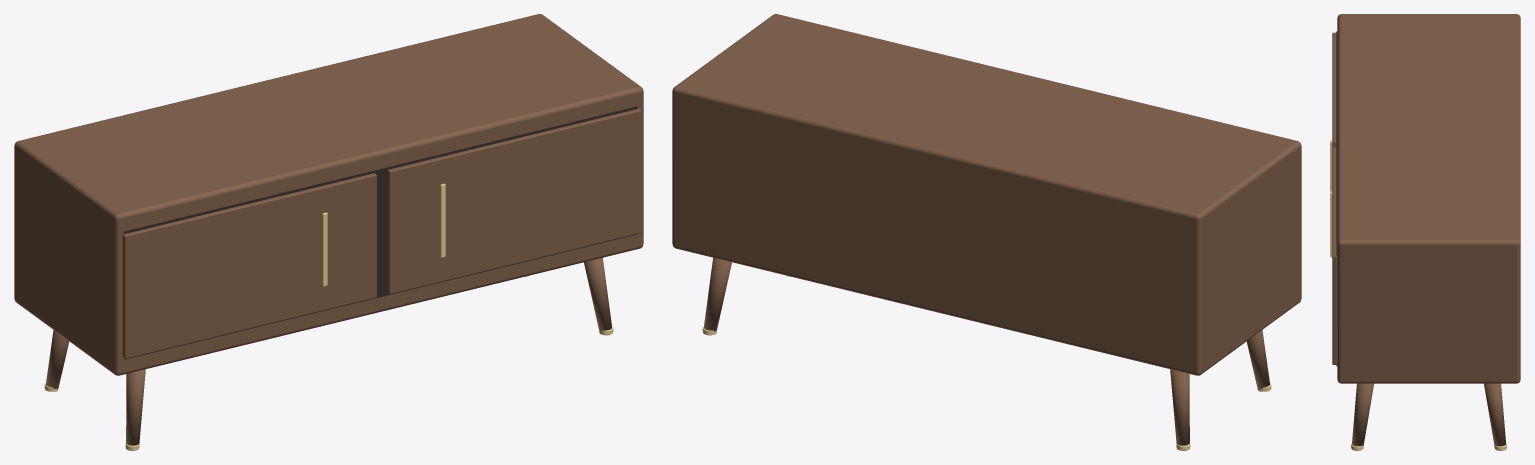
The model's file is credenza.glb.
3 views of the same model, side by side, from view 1: azimuth 30°, elevation 25°; view 2: azimuth 150°, elevation 25°; view 3: azimuth 270°, elevation 25° (orthographic). The views are drawn at different scales.
Parts seen in each view (by area): view 1: Case, Door1, Door0, Recess, Cone, Cone.002, Cone.001; view 2: Case, Cone.001, Cone.003, Cone; view 3: Case, Door1, Cone.002, Cone.003, Door0, Recess.
Part boxes in pixels (x1=…): Case: x1=14, y1=14, x2=643, y2=375; Door1: x1=387, y1=108, x2=641, y2=294; Door0: x1=122, y1=173, x2=376, y2=358; Recess: x1=124, y1=106, x2=637, y2=359; Cone: x1=126, y1=369, x2=145, y2=445; Cone.002: x1=584, y1=257, x2=611, y2=334; Cone.001: x1=46, y1=330, x2=69, y2=391; Case: x1=672, y1=14, x2=1301, y2=375; Cone.001: x1=1170, y1=369, x2=1189, y2=445; Cone.003: x1=704, y1=257, x2=731, y2=334; Cone: x1=1246, y1=330, x2=1269, y2=391; Case: x1=1337, y1=14, x2=1520, y2=383; Door1: x1=1332, y1=147, x2=1337, y2=364; Cone.002: x1=1352, y1=383, x2=1373, y2=446; Cone.003: x1=1484, y1=383, x2=1506, y2=446; Door0: x1=1332, y1=32, x2=1336, y2=147; Recess: x1=1336, y1=31, x2=1337, y2=366.
Bounding box in the file's own units: 1.3 × 0.5809 × 0.457.
